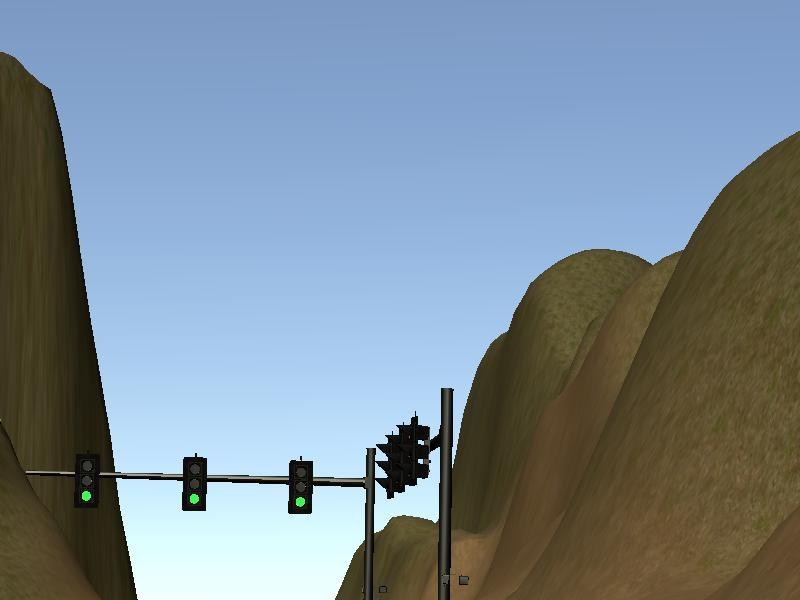green: (75, 453, 99, 508), (289, 460, 312, 516), (184, 457, 206, 511)
